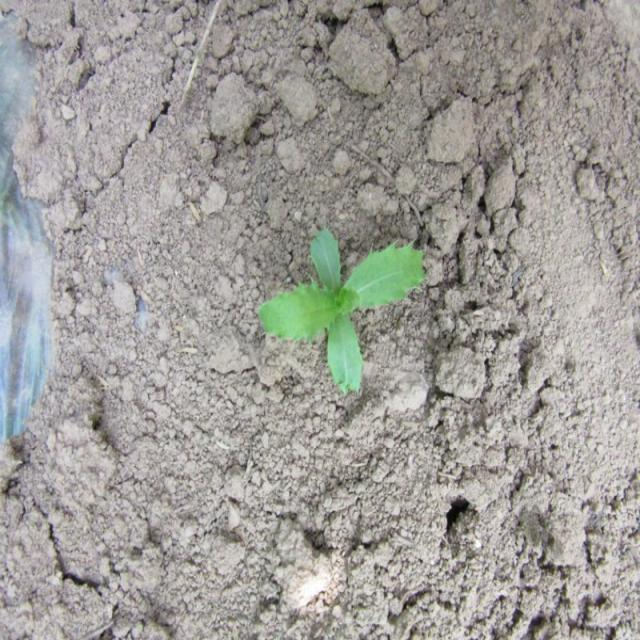cs: (253, 219, 430, 402)
